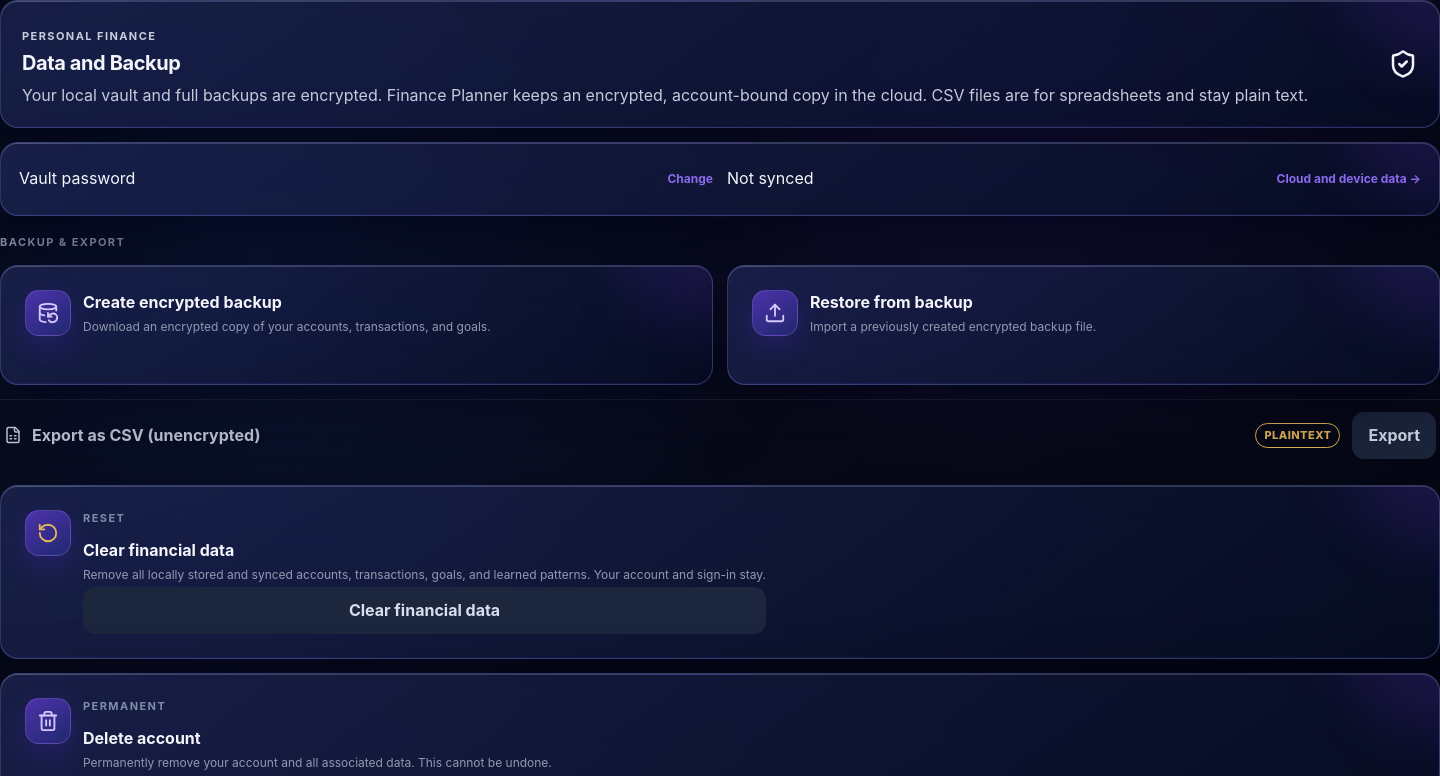
Scenario: DataTools overview › opens the CSV plaintext warning dialog before exporting, never exporting directly
Click the button "Export".
click(1394, 435)  # box [1352, 412, 1436, 459]
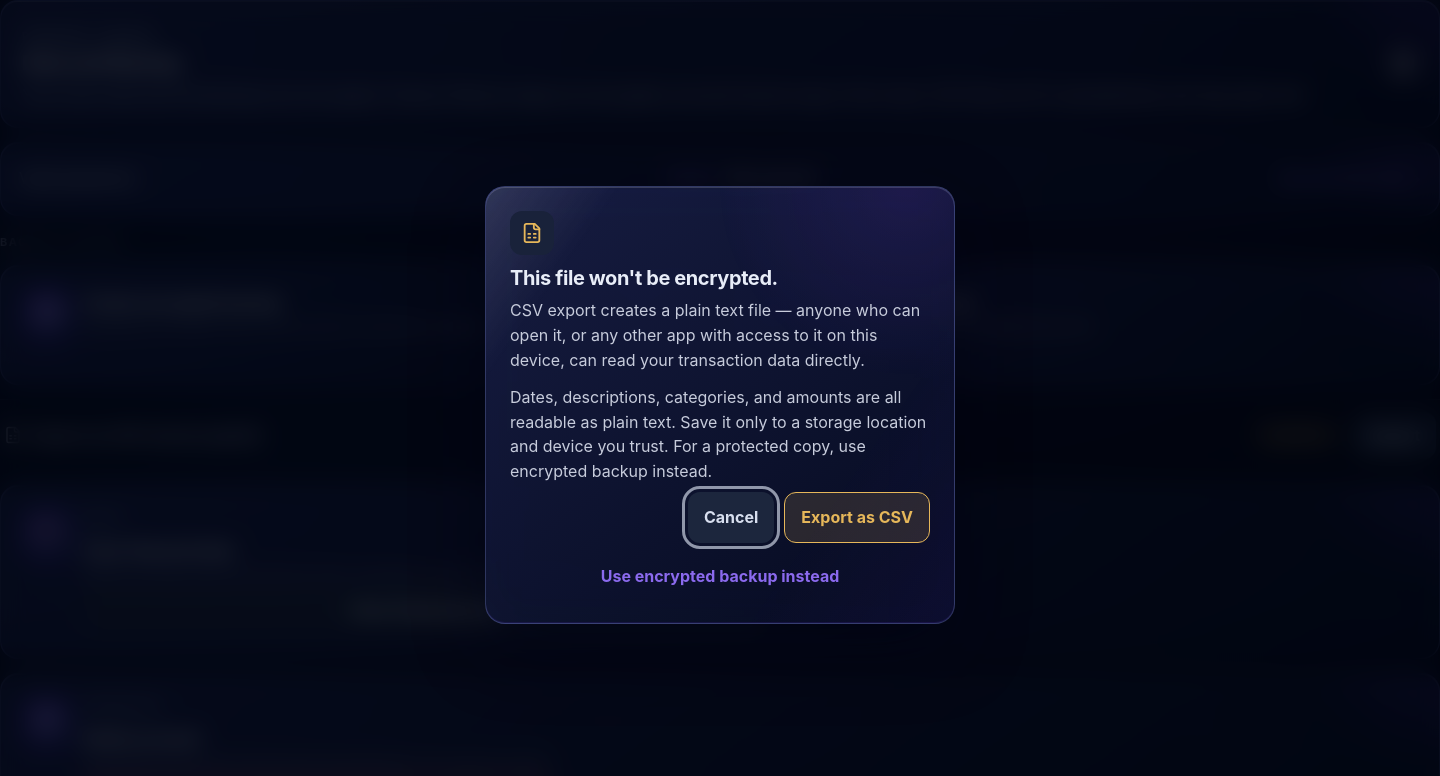
Expected: the heading "This file won't be encrypted." is shown, [510, 266, 778, 290]
